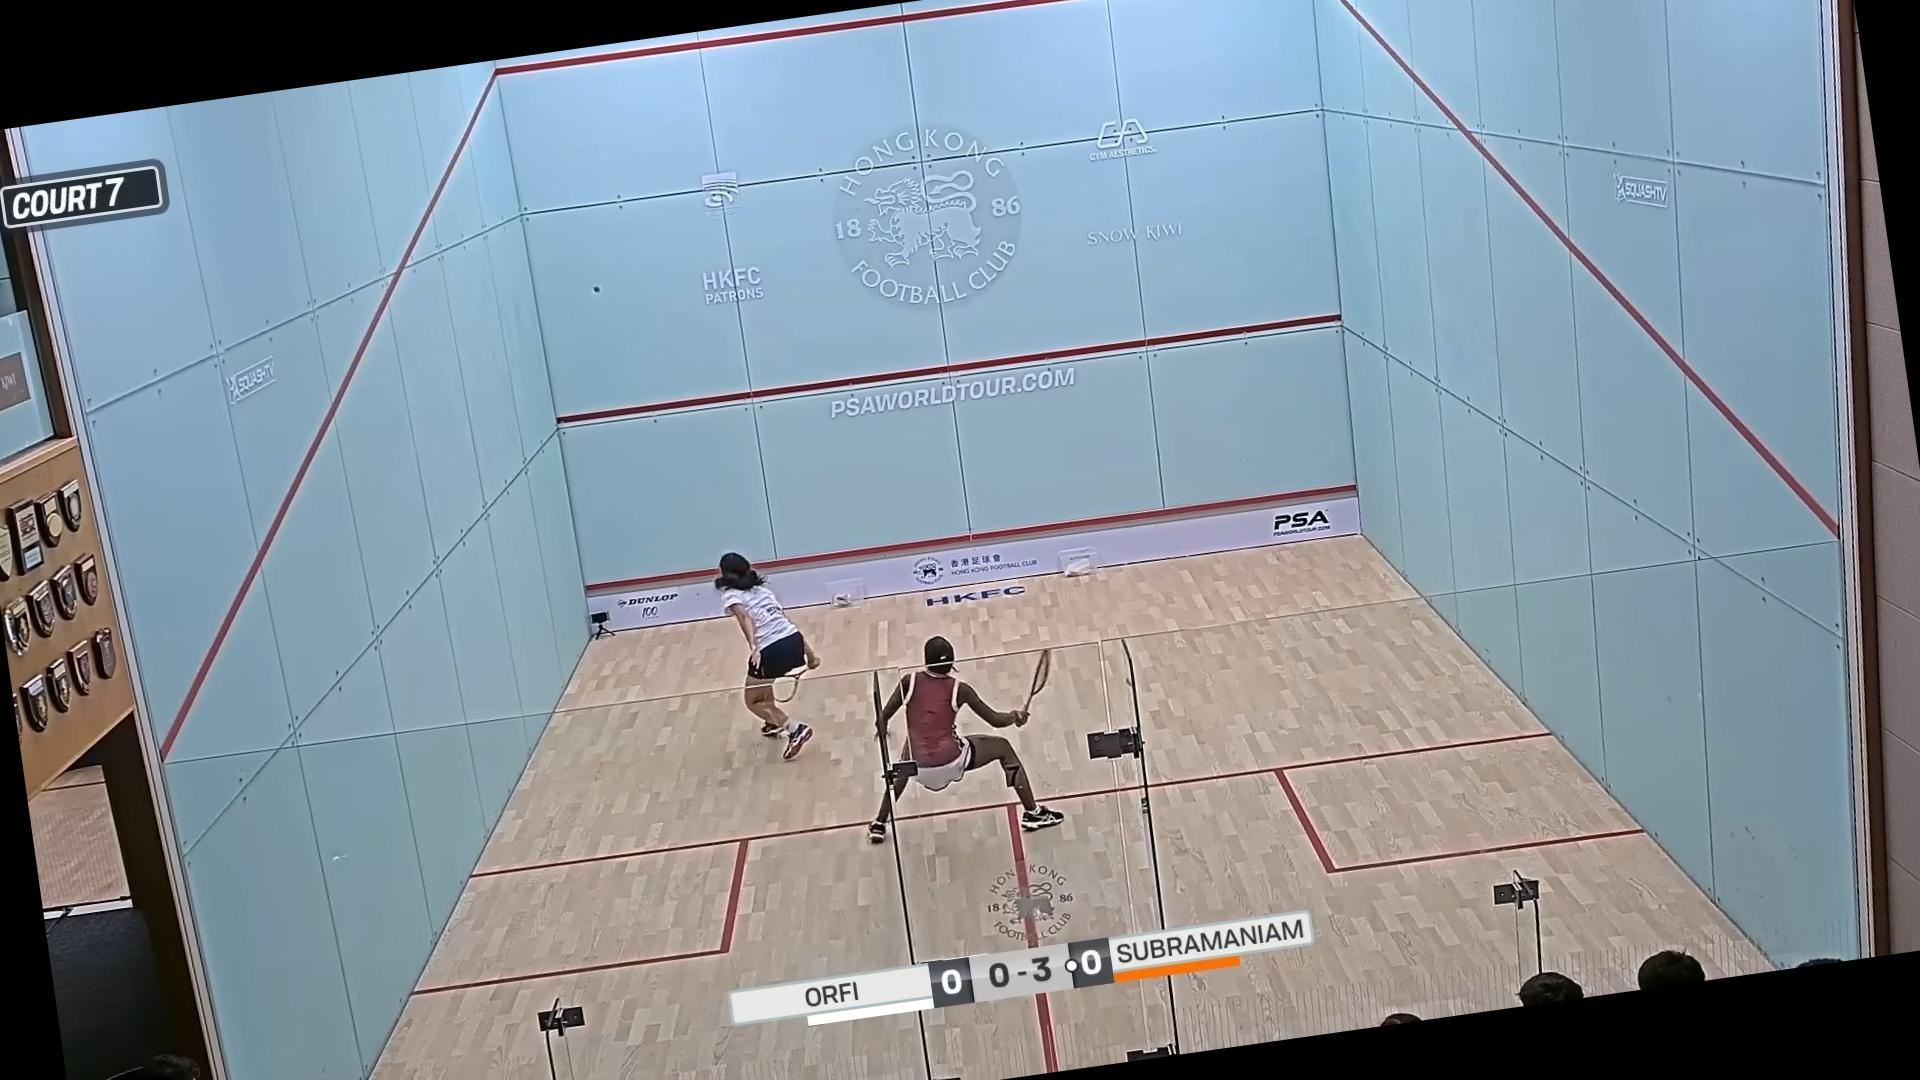Squash-Ball: (583, 278, 605, 301)
